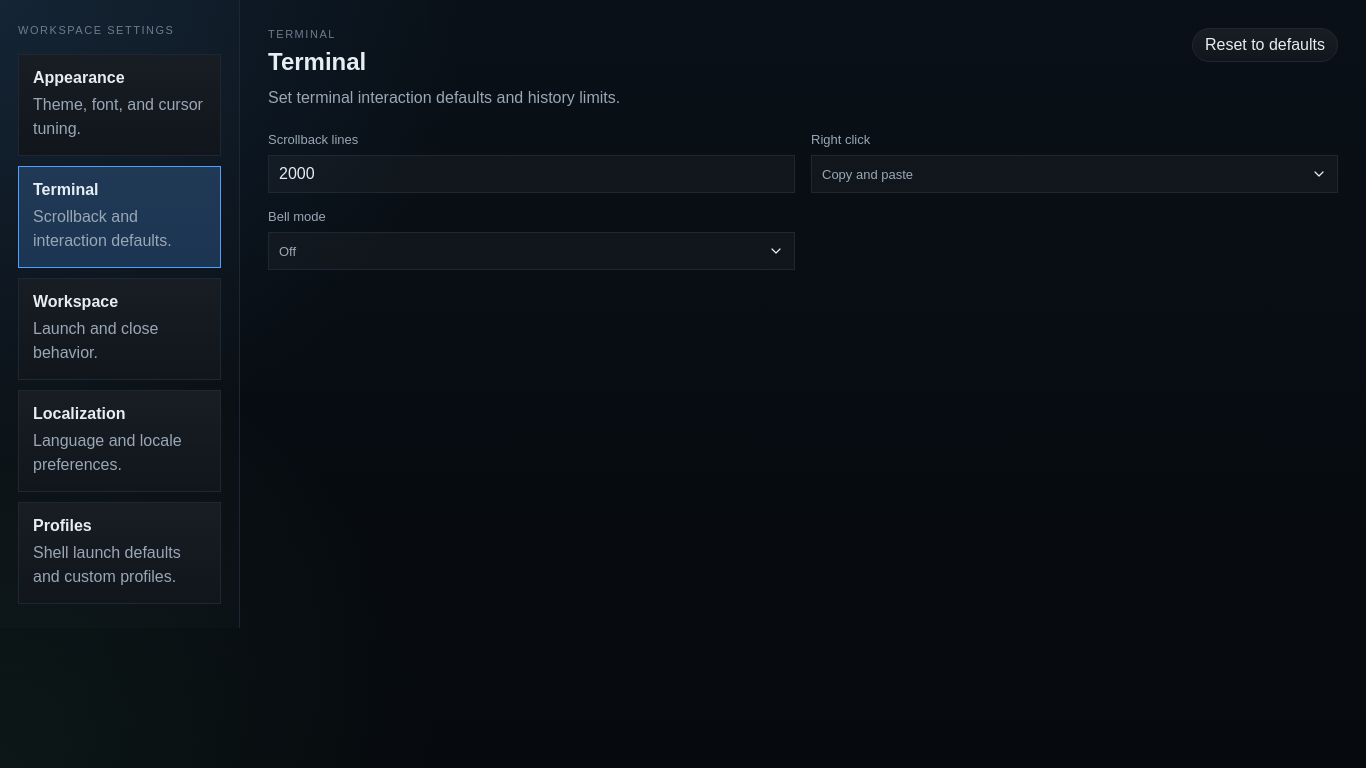
Test: SettingsPage › uses a themed custom dropdown for terminal settings
Click the button "Copy and paste" at (868, 174), box [811, 155, 1338, 193]
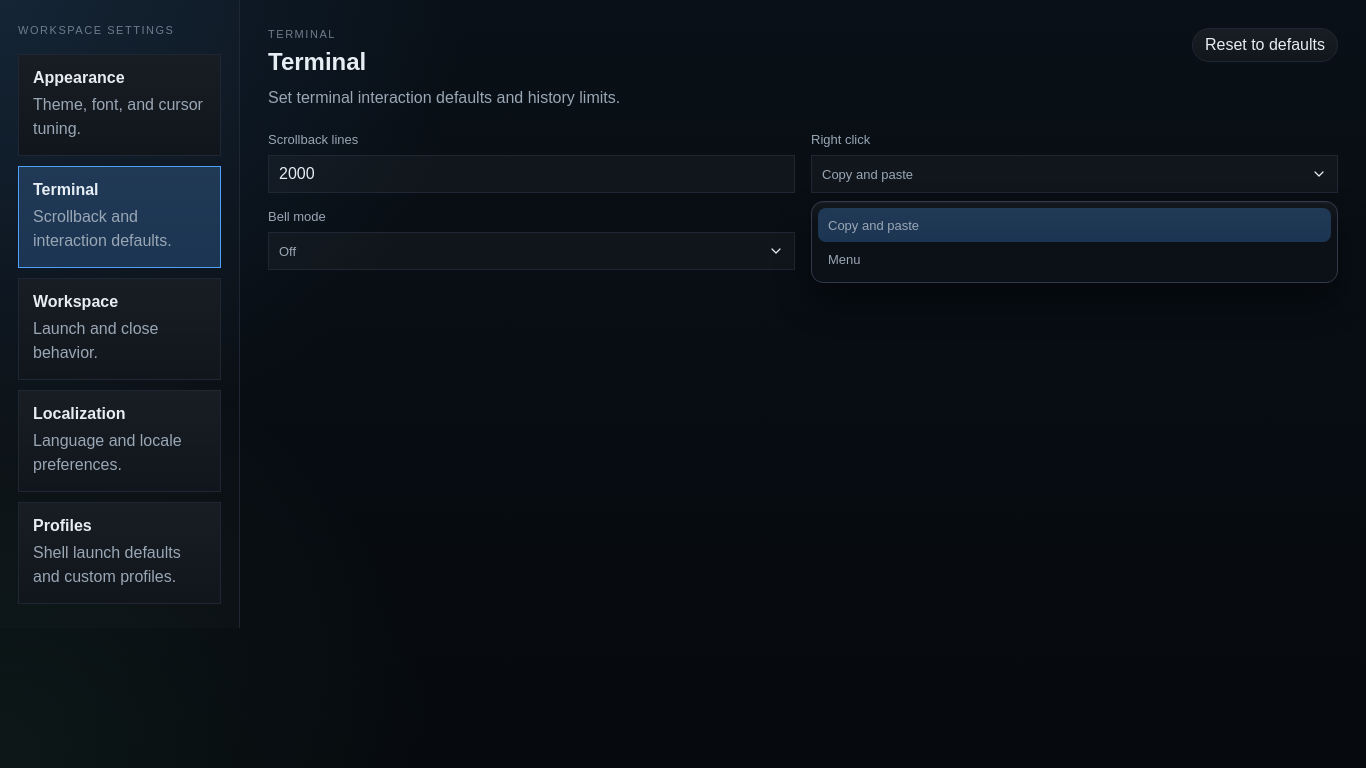
Check: the list with class "choice-select-menu" is shown, box [811, 201, 1338, 283]
Check: the option "Menu" is shown
Click the option "Menu" at (844, 259), box [818, 242, 1331, 276]
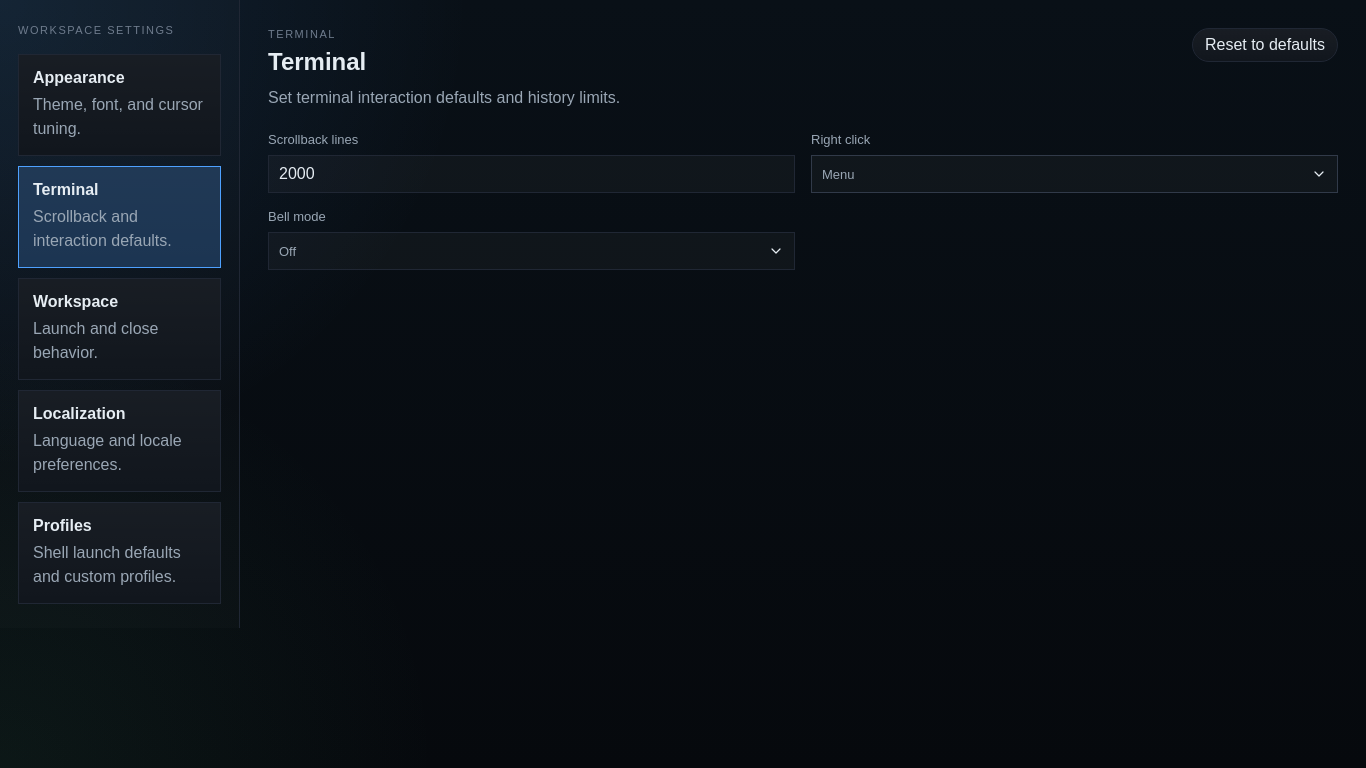
Check: the list with class "choice-select-menu" is gone
Check: the button "Menu" is shown, box [811, 155, 1338, 193]
